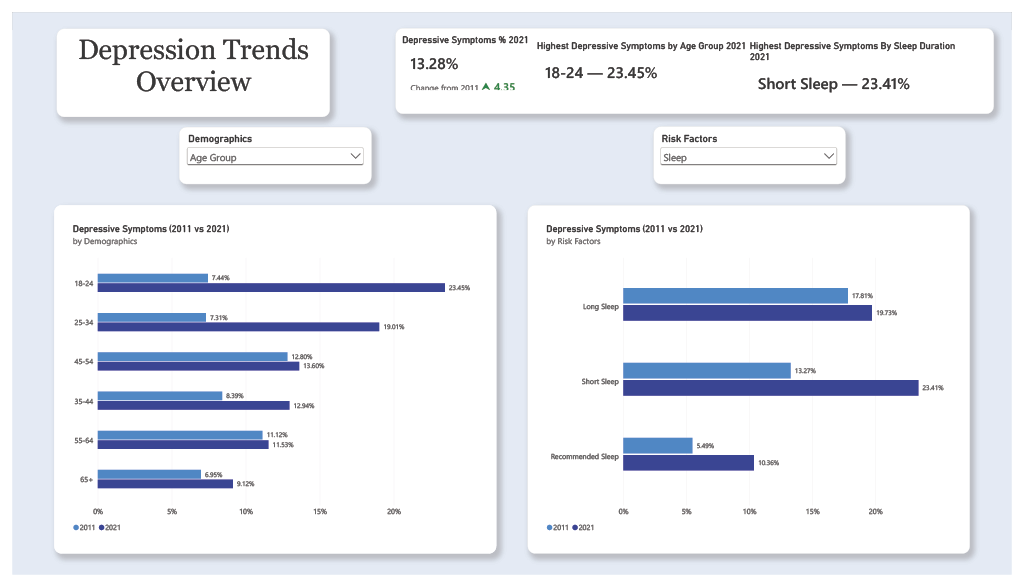

What the dashboard file says about the page in this screenshot:
{"tool":"powerbi","page":{"name":"Overview","canvas":[1920,1080],"ordinal":0},"visuals":[{"type":"shape","box":[320,220,370,110],"z":0},{"type":"shape","box":[85.1,30.6,525,170],"z":1000},{"type":"shape","box":[1231.6,219.5,369.8,110.4],"z":1500},{"type":"shape","box":[736,30,1150,165],"z":2000},{"type":"shape","box":[80,370,850,670],"z":3000},{"type":"shape","box":[990,370,850,670],"z":4000},{"type":"clusteredBarChart","title":"Depressive Symptoms (2011 vs 2021)","fields":{"Y":["demo_depression_m.Depression Rate 2011","demo_depression_m.Depression Rate 2021"],"Category":["demo_depression_m.demographic_value"]},"box":[100,390,810,630],"z":5000},{"type":"slicer","title":"demogrphic","fields":{"Values":["demo_depression_m.demographic_type"]},"box":[330,230,350,90],"z":6000},{"type":"clusteredBarChart","title":"Depressive Symptoms (2011 vs 2021)","fields":{"Y":["risk_factors_m.Depression Rate 2011(risk factors)","risk_factors_m.Depression Rate 2021(risk factors)"],"Category":["risk_factors_m.risk_factor_value"]},"box":[1010,390,810,630],"z":7000},{"type":"slicer","fields":{"Values":["risk_factors_m.risk_factor_type"]},"box":[1240,230,350,90],"z":8000},{"type":"textbox","box":[100,40.6,495.6,145],"z":9000},{"type":"cardVisual","title":"Depressive Symptoms % 2021","fields":{"Data":["demo_depression_m.Depression Rate 2021"]},"box":[748.8,41.2,260.7,131.7],"z":10000},{"type":"cardVisual","title":"Highest Depressive Symptoms By Sleep Duration 2021","fields":{"Data":["Measures Table.Highest Depression By Sleep Quality 2021"]},"box":[1416.5,53.2,419,106.4],"z":11000},{"type":"cardVisual","title":"Highest Depressive Symptoms by Age Group 2021","fields":{"Data":["Measures Table.Highest Depression By Age Group 2021"]},"box":[1008.2,53.2,407,106.4],"z":12000}]}

Visuals, with their boxes in screenshot pixels (x1, y1, x2, y2), scaled from the page's 1920x1080 canvas onto the 1024x587 screenshot:
shape: (171,120,368,179)
shape: (45,17,325,109)
shape: (657,119,854,179)
shape: (393,16,1006,106)
shape: (43,201,496,565)
shape: (528,201,981,565)
"Depressive Symptoms (2011 vs 2021)" clusteredBarChart: (53,212,485,554)
"demogrphic" slicer: (176,125,363,174)
"Depressive Symptoms (2011 vs 2021)" clusteredBarChart: (539,212,971,554)
slicer - risk_factors_m.risk_factor_type: (661,125,848,174)
textbox: (53,22,318,101)
"Depressive Symptoms % 2021" cardVisual: (399,22,538,94)
"Highest Depressive Symptoms By Sleep Duration 2021" cardVisual: (755,29,979,87)
"Highest Depressive Symptoms by Age Group 2021" cardVisual: (538,29,755,87)
